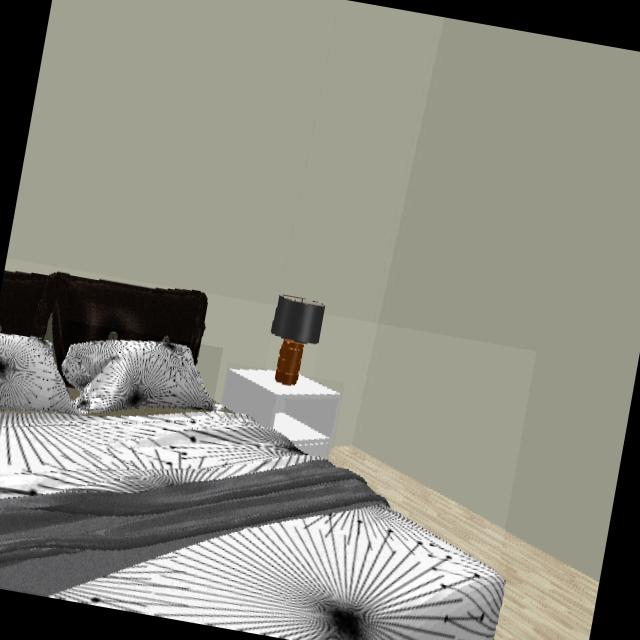bed: (0, 272, 497, 640)
lamp: (269, 296, 324, 388)
nighttable: (222, 369, 341, 456)
pillow: (54, 338, 212, 419)
